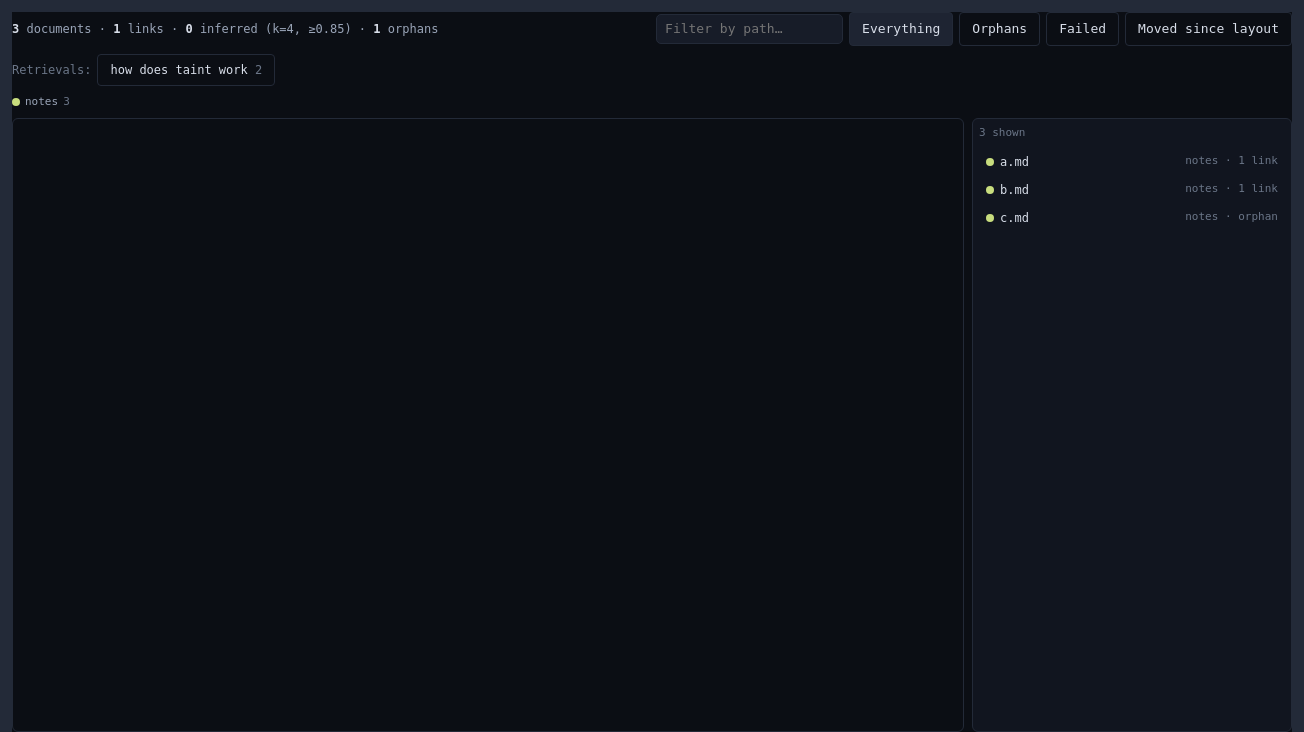
KnowledgeGraph › the use question — what was retrieved, and from where › names the retrieval and reports how many sources it lit up
Click the button "how does taint work 2". click: (186, 70)
box: [98,54,275,86]
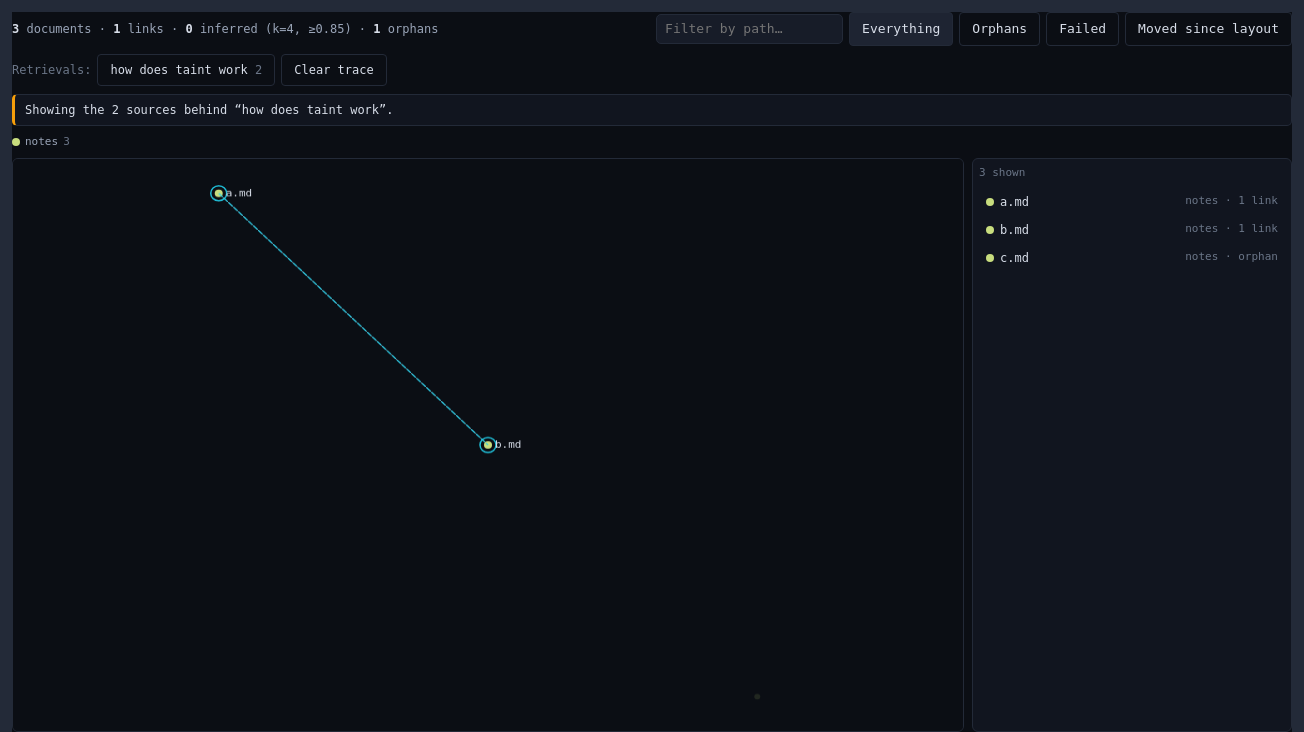
Expected: the text "Showing the 2 sources behind “how does taint work”." is shown, [25,100,394,118]
